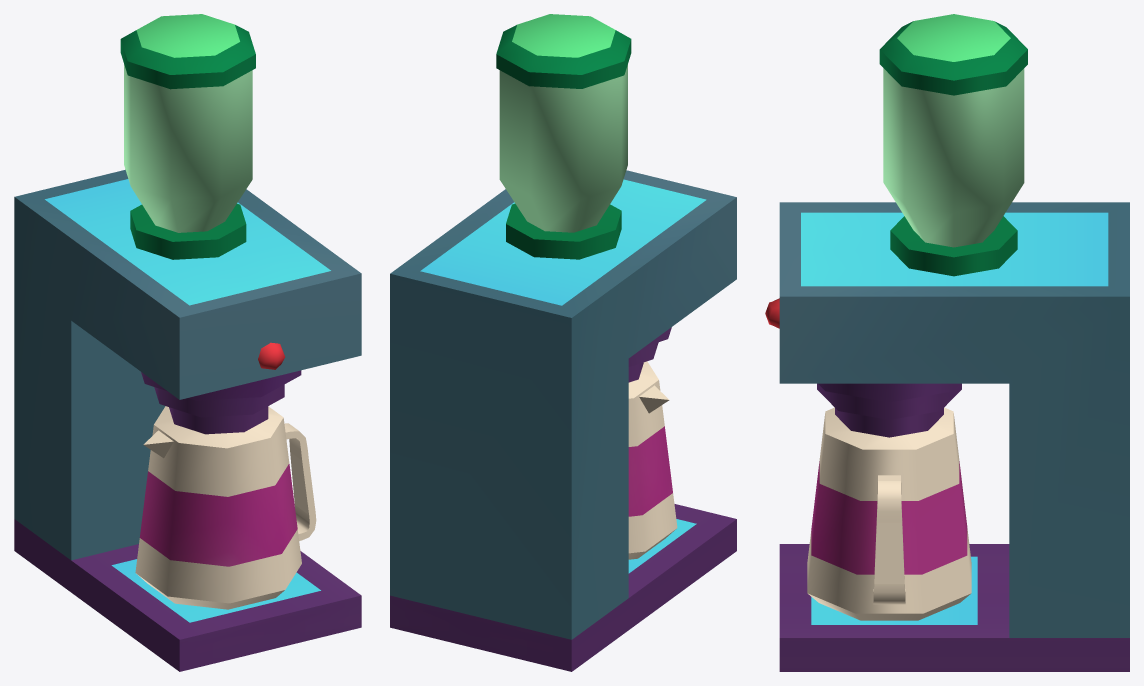
The model's file is Drink_Machine_lv4.fbx.
3 renders of one model, left to right at view 1: azimuth 30°, elevation 25°; view 2: azimuth 150°, elevation 25°; view 3: azimuth 270°, elevation 25°, orthographic. The views are drawn at different scales.
Parts seen in each view (by area): view 1: Drink_Machine_lv4; view 2: Drink_Machine_lv4; view 3: Drink_Machine_lv4.
Part boxes in pixels (x1,y1,x2,y2): Drink_Machine_lv4: [14, 14, 361, 671]; Drink_Machine_lv4: [390, 14, 736, 671]; Drink_Machine_lv4: [765, 14, 1129, 671].
Size of the model in its own units: 70.29 by 204 by 115.
